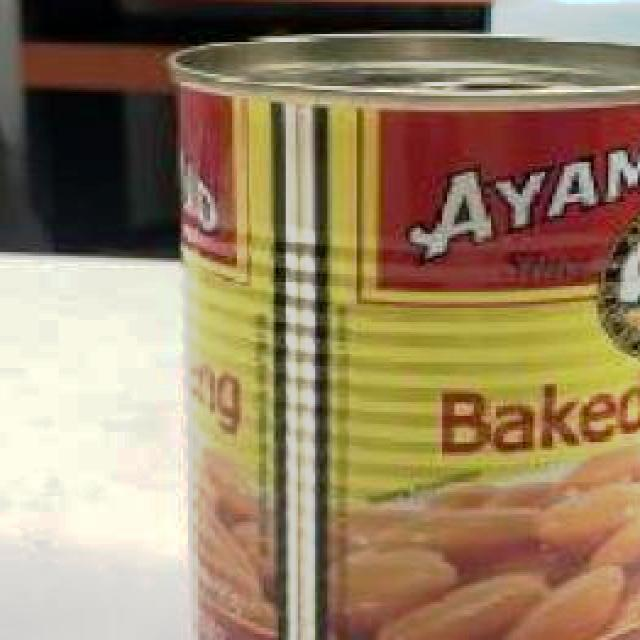Lata: (168, 31, 640, 640)
